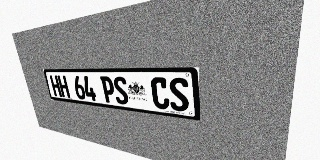4: (82, 76, 97, 101)
6: (72, 76, 86, 100)
C: (150, 77, 170, 110)
H: (57, 75, 70, 98), (49, 75, 62, 97)
P: (100, 76, 116, 103)
S: (168, 77, 189, 112), (112, 76, 129, 105)
